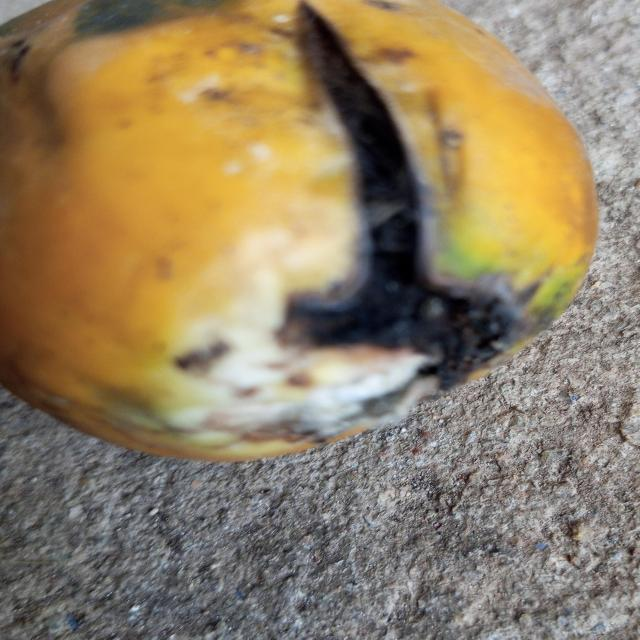damaged: (0, 0, 599, 466)
